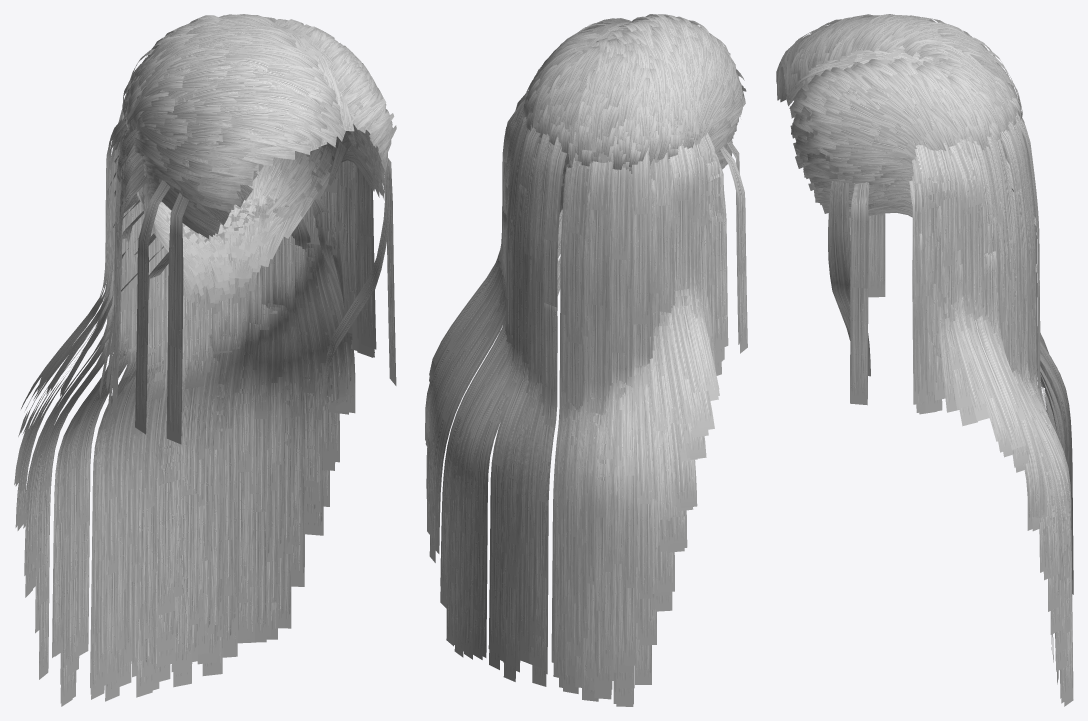
The model's file is NC_Head_Female_Cards1.fbx.
3 views of the same model, side by side, from view 1: azimuth 30°, elevation 25°; view 2: azimuth 150°, elevation 25°; view 3: azimuth 270°, elevation 25° (orthographic). The views are drawn at different scales.
Parts seen in each view (by area): view 1: Hair_LongStraight_Cards_2, Hair_Pixie_Cards, Hair_LongStraight_Cards, Hair_Pixie_CapCards; view 2: Hair_LongStraight_Cards_2, Hair_Pixie_Cards, Hair_LongStraight_Cards; view 3: Hair_LongStraight_Cards_2, Hair_Pixie_Cards, Hair_LongStraight_Cards.
Boxes of the visible parts, x1,y1,x2,y2 form: Hair_LongStraight_Cards_2: (14,99,396,706); Hair_Pixie_Cards: (122,14,396,251); Hair_LongStraight_Cards: (137,25,386,316); Hair_Pixie_CapCards: (156,145,383,240); Hair_LongStraight_Cards_2: (425,53,747,706); Hair_Pixie_Cards: (523,14,746,211); Hair_LongStraight_Cards: (559,21,732,213); Hair_LongStraight_Cards_2: (786,82,1073,706); Hair_Pixie_Cards: (776,14,1022,198); Hair_LongStraight_Cards: (786,48,1007,217).
Bounding box in the file's own units: 0.9663 × 1.95 × 0.8165.
Materials: 1 (1 with a texture image).
